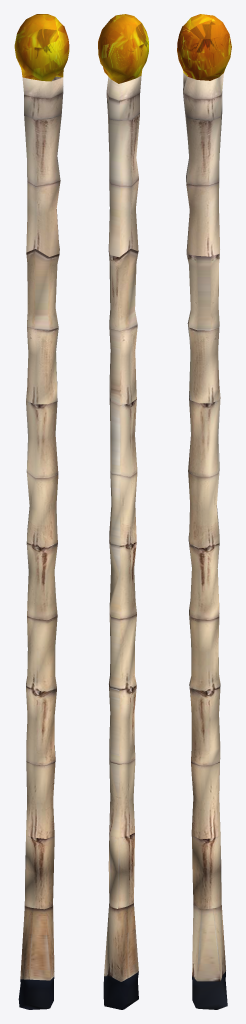
The model's file is AuthenticWalkingCaneJP.fbx.
3 views of the same model, side by side, from view 1: azimuth 90°, elevation 25°; view 2: azimuth 150°, elevation 25°; view 3: azimuth 270°, elevation 25° (orthographic).
Visible parts, largest first — view 1: Hammond's Cane; view 2: Hammond's Cane; view 3: Hammond's Cane.
Boxes of the visible parts, left/top/right/bottom form: Hammond's Cane: left=14, top=14, right=69, bottom=1009; Hammond's Cane: left=98, top=14, right=148, bottom=1009; Hammond's Cane: left=177, top=14, right=231, bottom=1009.
Size of the model in its own units: 0.0291 by 0.63 by 0.0317.
